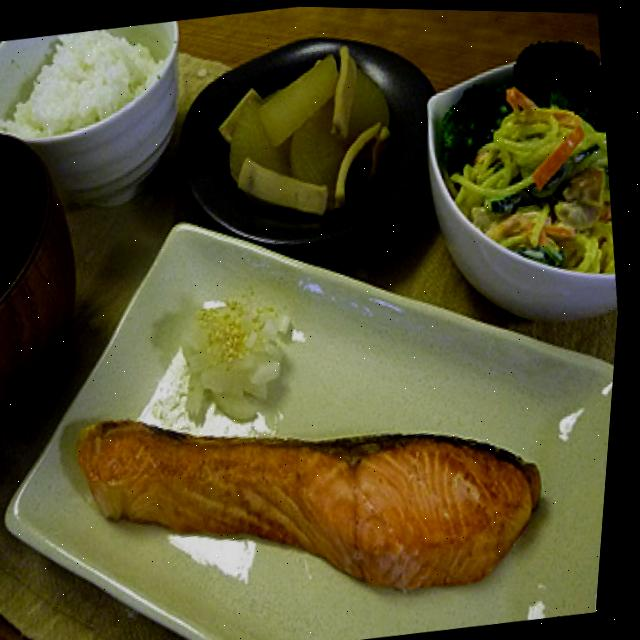熟制海鲜: (45, 326, 618, 640)
